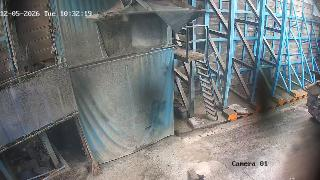cement_mixer_truck: (301, 55, 320, 131)
